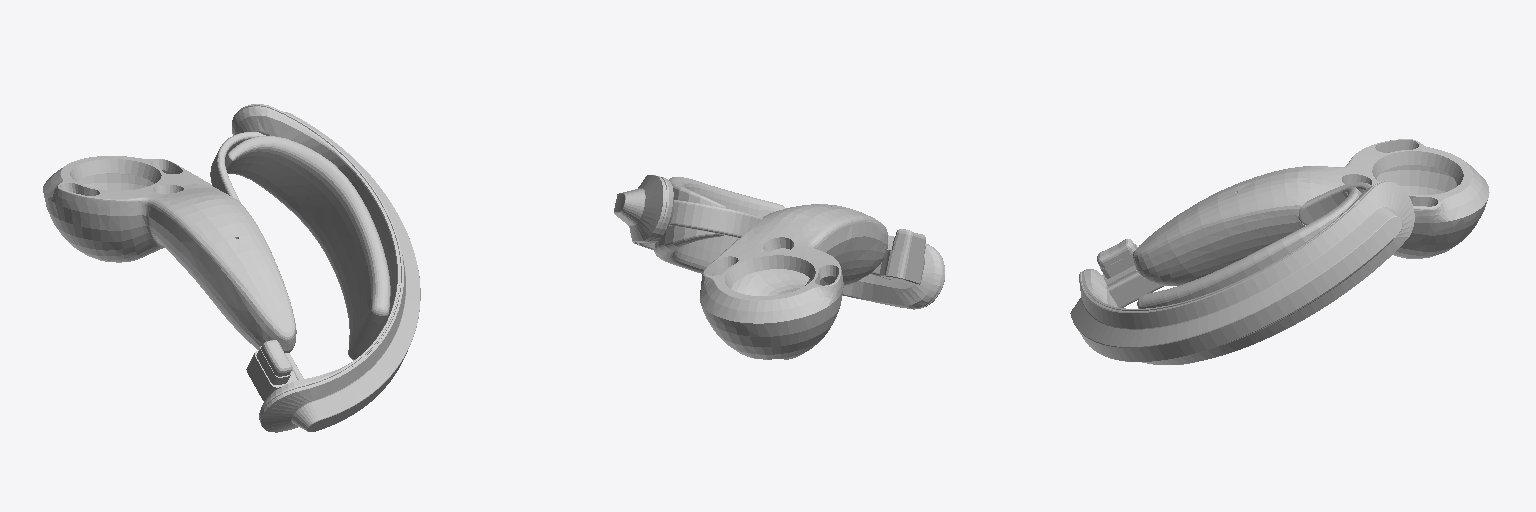
The model's file is body_right.obj.
The picture shows the model from 3 angles: view 1: azimuth 30°, elevation 25°; view 2: azimuth 150°, elevation 25°; view 3: azimuth 270°, elevation 25°; orthographic projection.
Visible parts, largest first — view 1: body; view 2: body; view 3: body.
Part boxes in pixels (bbox=[...]): body: bbox=[43, 104, 420, 432]; body: bbox=[614, 175, 944, 359]; body: bbox=[1070, 139, 1489, 364].
Bounding box in the file's own units: 0.1294 × 0.0922 × 0.1741.